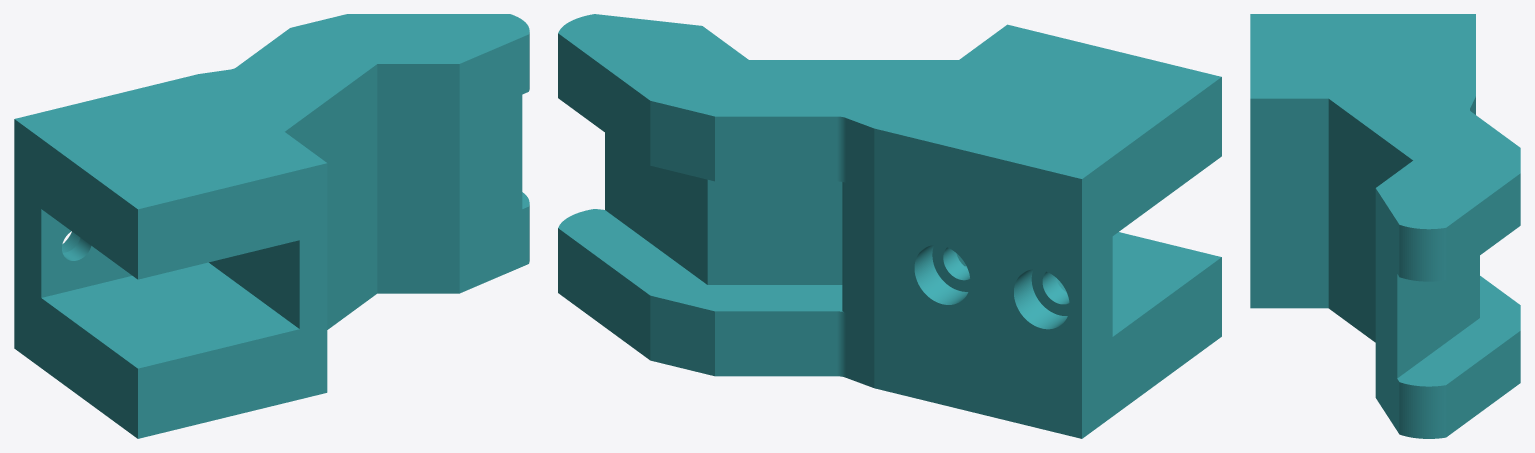
The model's file is finger.dae.
3 views of the same model, side by side, from view 1: azimuth 30°, elevation 25°; view 2: azimuth 150°, elevation 25°; view 3: azimuth 270°, elevation 25° (orthographic). The views are drawn at different scales.
Visible parts, largest first — view 1: node0; view 2: node0; view 3: node0.
Part boxes in pixels (x1,y1,x2,y2): node0: (14, 14, 529, 438); node0: (558, 14, 1221, 438); node0: (1250, 14, 1520, 438).
Bounding box in the file's own units: 0.088 × 0.0467 × 0.04.
